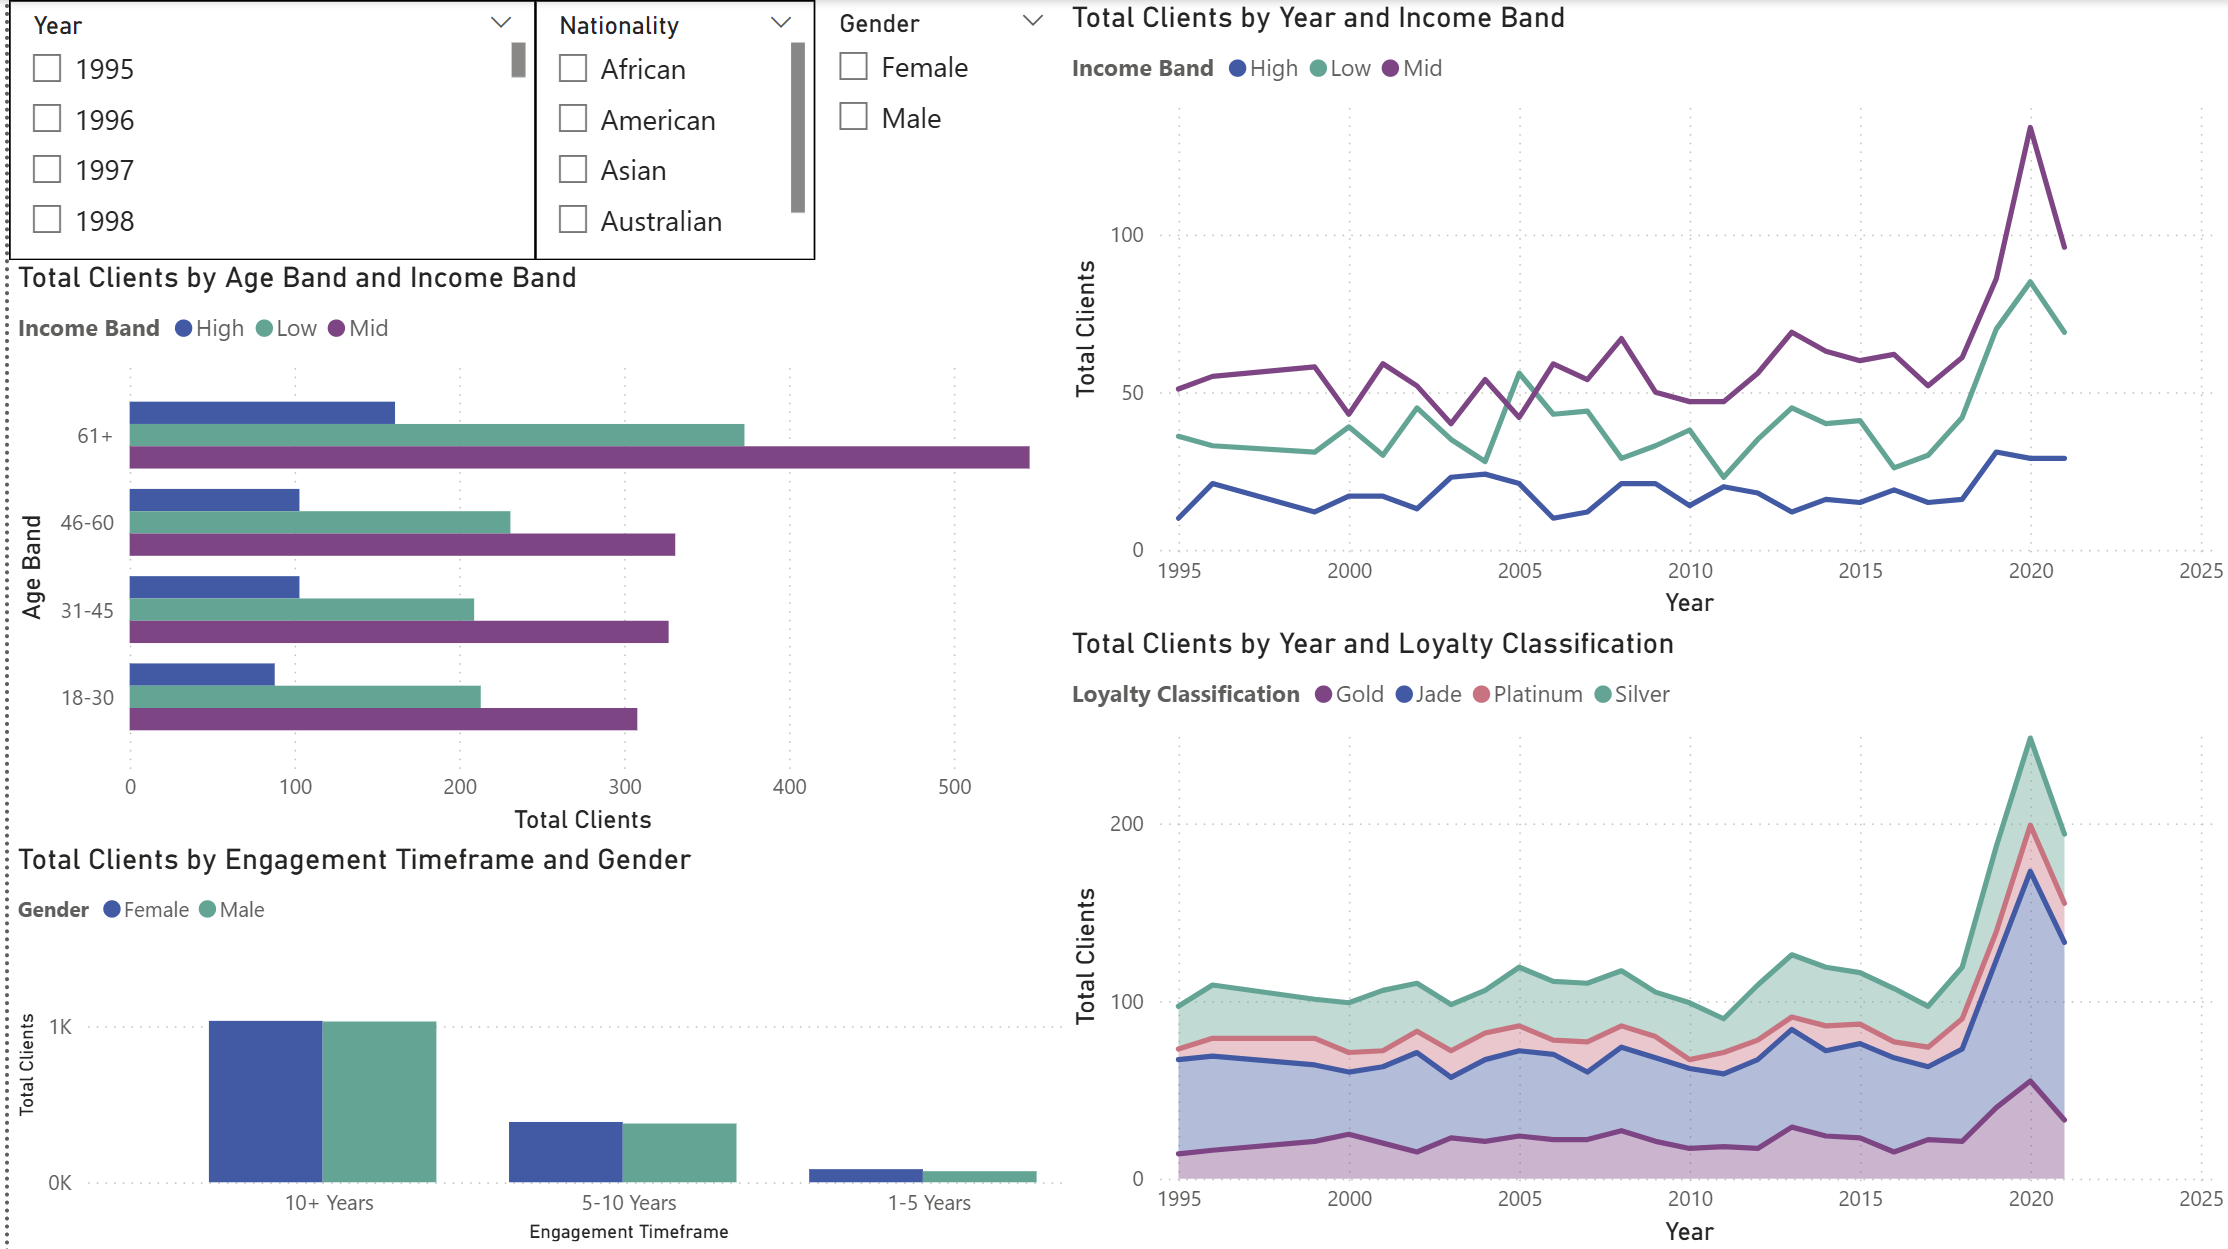

What the dashboard file says about the page in this screenshot:
{"tool":"powerbi","page":{"name":"Growth Analysis 2 ","canvas":[1280,720],"ordinal":6},"visuals":[{"type":"slicer","fields":{"Values":["Date Table.Year"]},"box":[0,0,303.3,150],"z":0},{"type":"slicer","fields":{"Values":["Banking.Nationality"]},"box":[303.3,0,161.7,150],"z":1000},{"type":"clusteredBarChart","fields":{"Category":["Banking.Age Band"],"Y":["Banking.Total Clients"],"Series":["Banking.Income Band"]},"box":[0,150,606.7,335],"z":2000},{"type":"lineChart","fields":{"Category":["Banking.Year"],"Y":["Banking.Total Clients"],"Series":["Banking.Income Band"]},"box":[606.7,0,673.3,360],"z":3000},{"type":"clusteredColumnChart","fields":{"Category":["Banking.Engagement Timeframe"],"Y":["Banking.Total Clients"],"Series":["Banking.Gender"]},"box":[0,485,673.3,235],"z":4000},{"type":"slicer","fields":{"Values":["Banking.Gender"]},"box":[465,0,143.3,150],"z":5000},{"type":"stackedAreaChart","fields":{"Category":["Banking.Year"],"Y":["Banking.Total Clients"],"Series":["Banking.Loyalty Classification"]},"box":[606.7,360,673.3,361.7],"z":6000}]}

Visuals, with their boxes in screenshot pixels (x1, y1, x2, y2), scaled from the page's 1280x720 canvas onto the 2228x1249 screenshot:
slicer - Date Table.Year: {"left": 0, "top": 0, "right": 528, "bottom": 260}
slicer - Banking.Nationality: {"left": 528, "top": 0, "right": 809, "bottom": 260}
clusteredBarChart - Banking.Age Band x Banking.Total Clients: {"left": 0, "top": 260, "right": 1056, "bottom": 841}
lineChart - Banking.Year x Banking.Total Clients: {"left": 1056, "top": 0, "right": 2227, "bottom": 624}
clusteredColumnChart - Banking.Engagement Timeframe x Banking.Total Clients: {"left": 0, "top": 841, "right": 1172, "bottom": 1248}
slicer - Banking.Gender: {"left": 809, "top": 0, "right": 1059, "bottom": 260}
stackedAreaChart - Banking.Year x Banking.Total Clients: {"left": 1056, "top": 624, "right": 2227, "bottom": 1248}
